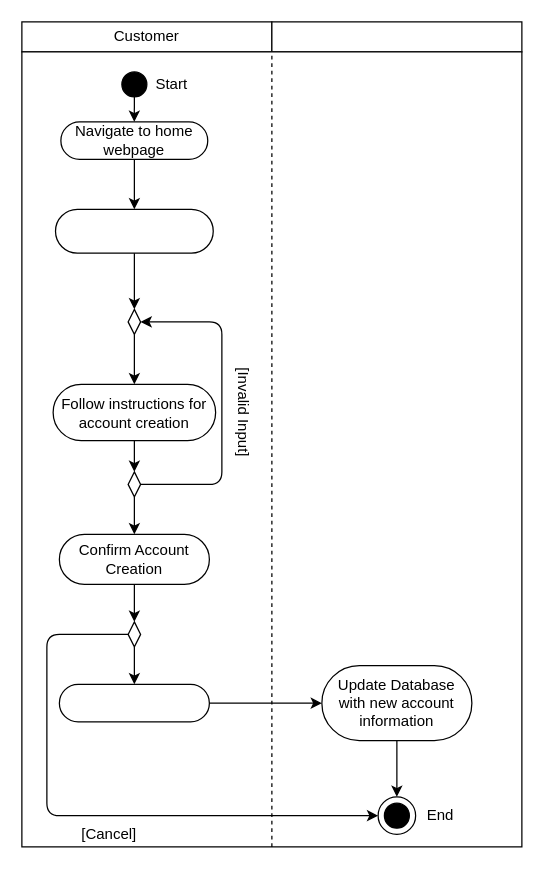
Image size: 544x870. Some labels were removed from this diagram. The shapes that lost their labels are listed below. From the top down, each one's centre as x and y in pixels, then its label:
point 396,36: Database
point 133,230: Select 'Create Customer Account'
point 133,702: Create Account
